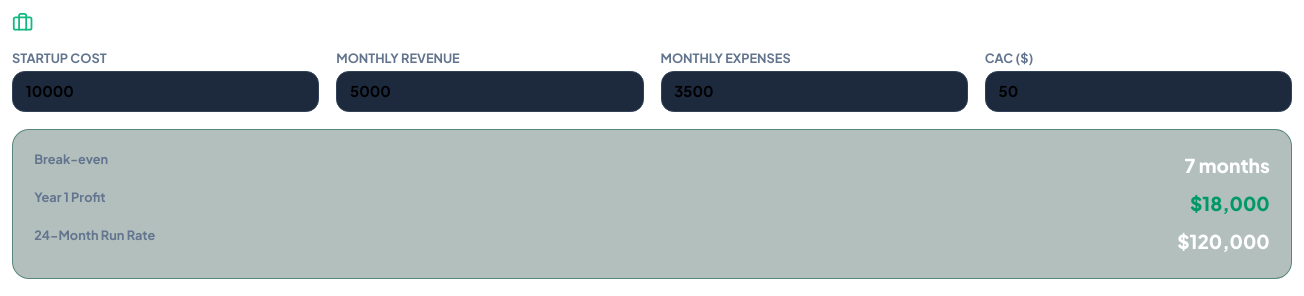
tool interactions › BusinessViabilityCalculator › shows "Not reached" for zero revenue and zero expenses
Replace the text in the number field showing "3500" below "Monthly Expenses" with "0". click: (814, 92)
box: [660,72,968,112]
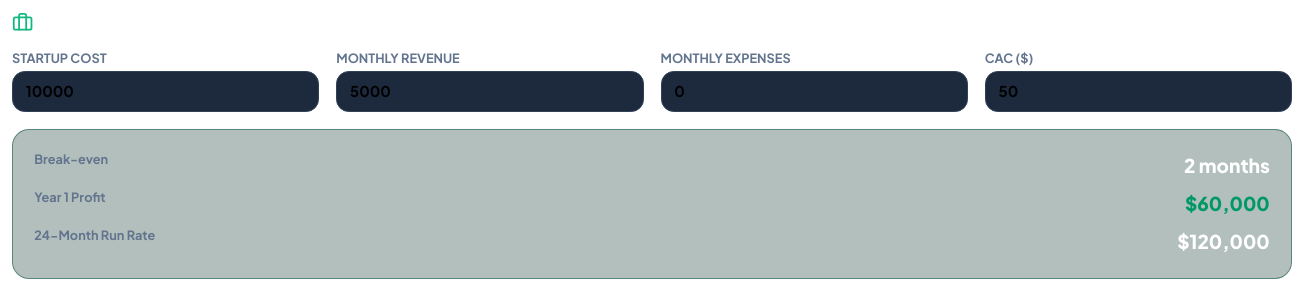
Replace the text in the number field showing "5000" below "Monthly Revenue" with "0". click: (490, 92)
box: [336,72,644,112]
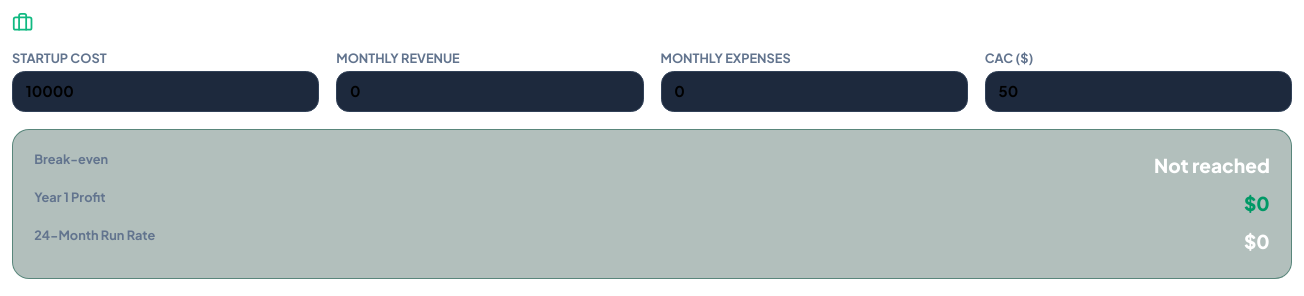
Expected: the text "Not reached" is shown, [1154,151,1270,181]
